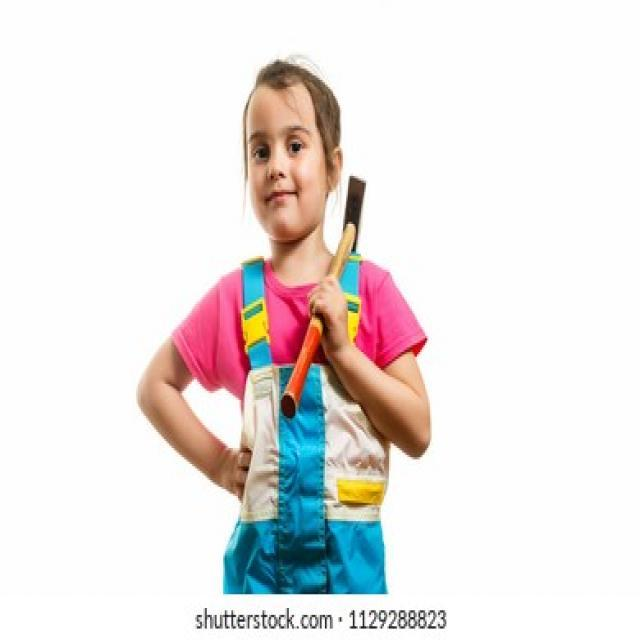hammer: (276, 156, 370, 422)
